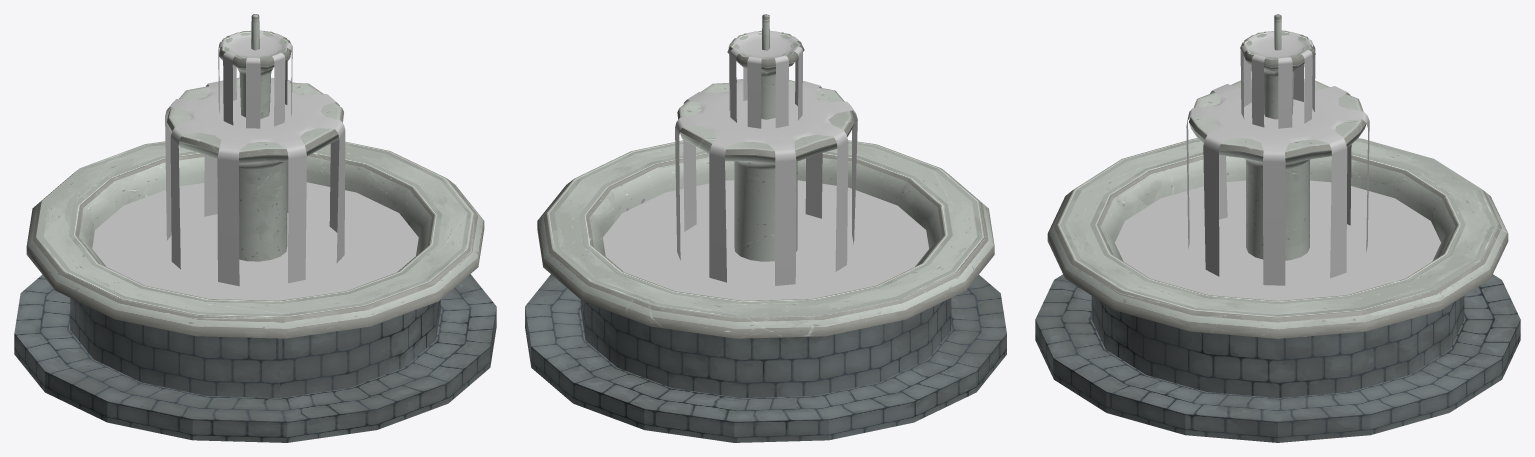
The model's file is Fountain.fbx.
3 views of the same model, side by side, from view 1: azimuth 30°, elevation 25°; view 2: azimuth 150°, elevation 25°; view 3: azimuth 270°, elevation 25° (orthographic).
Parts seen in each view (by area): view 1: Fountain; view 2: Fountain; view 3: Fountain.
Boxes of the visible parts, x1,y1,x2,y2 form: Fountain: (14, 14, 496, 442); Fountain: (525, 14, 1006, 442); Fountain: (1035, 14, 1520, 442).
Bounding box in the file's own units: 287 × 213 × 287.
